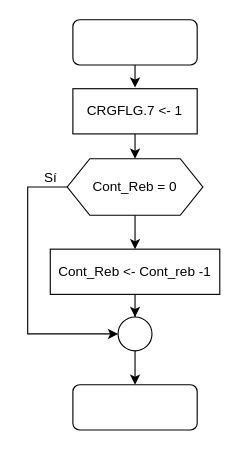
This 240x450 diagram has some shape labels left out. The shapes that lost their labels are listed below. From the top down, each one's centre as x and y in pixels, then its label:
point (134, 42): RTI_ISR
point (134, 407): Retorno
